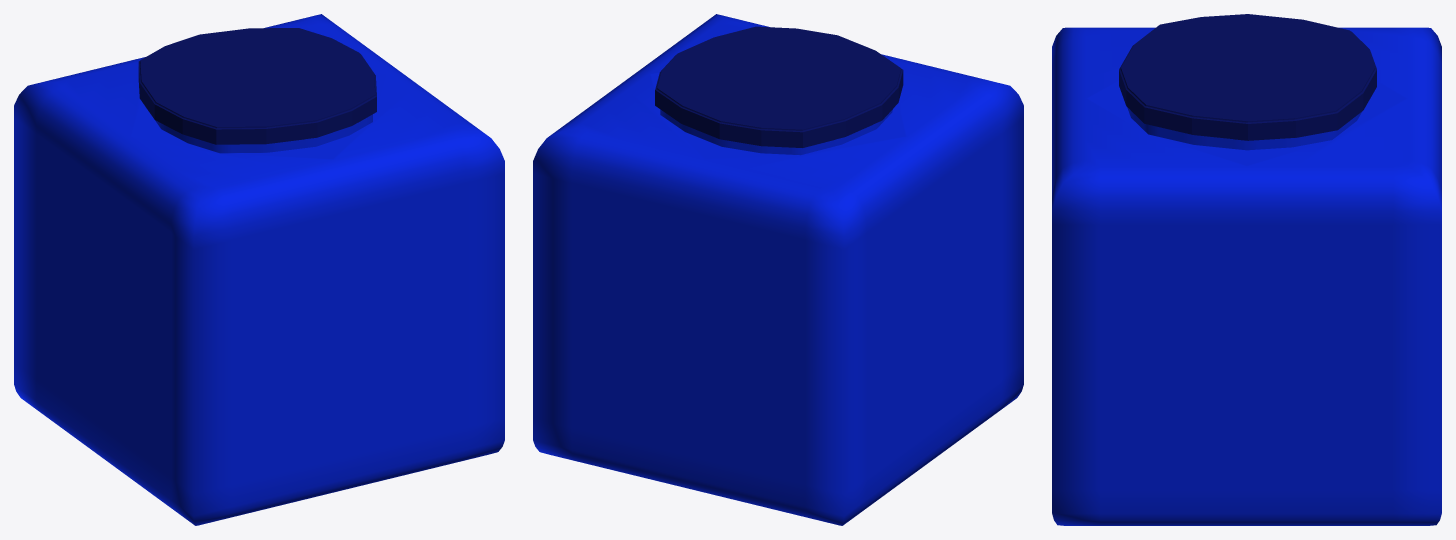
The model's file is ink.glb.
The picture shows the model from 3 angles, left to right: view 1: azimuth 30°, elevation 25°; view 2: azimuth 150°, elevation 25°; view 3: azimuth 270°, elevation 25°; orthographic projection. The views are drawn at different scales.
Parts seen in each view (by area): view 1: ink_bottle, lid; view 2: ink_bottle, lid; view 3: ink_bottle, lid.
Part boxes in pixels (left/top/right/bottom): ink_bottle: left=14, top=14, right=504, bottom=525; lid: left=138, top=28, right=376, bottom=144; ink_bottle: left=533, top=14, right=1023, bottom=525; lid: left=655, top=26, right=903, bottom=147; ink_bottle: left=1052, top=27, right=1441, bottom=525; lid: left=1119, top=14, right=1376, bottom=140.
Bounding box in the file's own units: 4.04 × 4.39 × 4.04.
